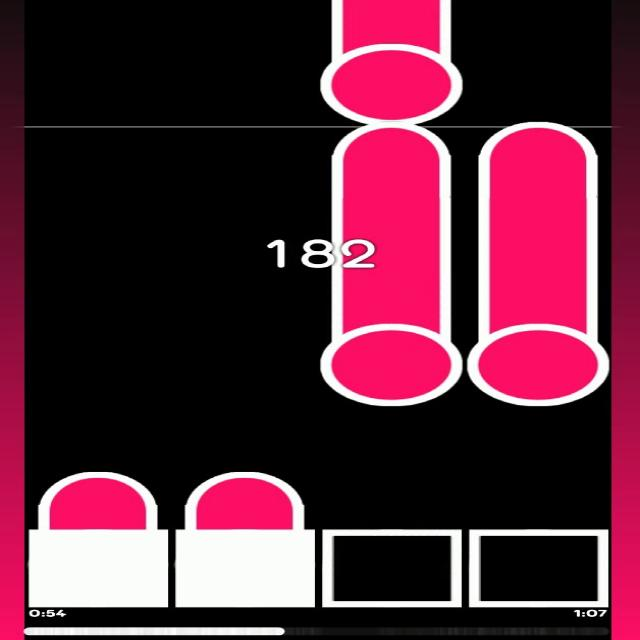end_hold: (480, 112, 598, 162), (186, 463, 306, 510), (39, 463, 157, 507), (331, 123, 451, 162)
start_hold: (466, 299, 610, 408), (318, 299, 462, 407), (316, 24, 464, 125)
